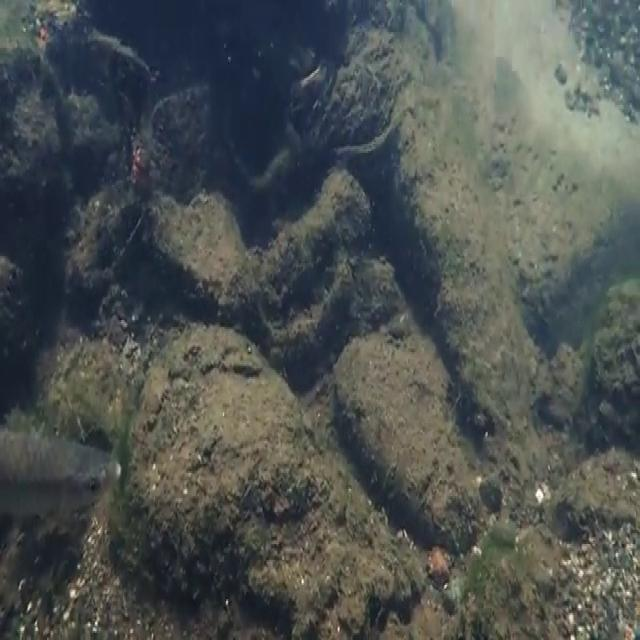Cakil Baligi: (0, 412, 124, 545)
